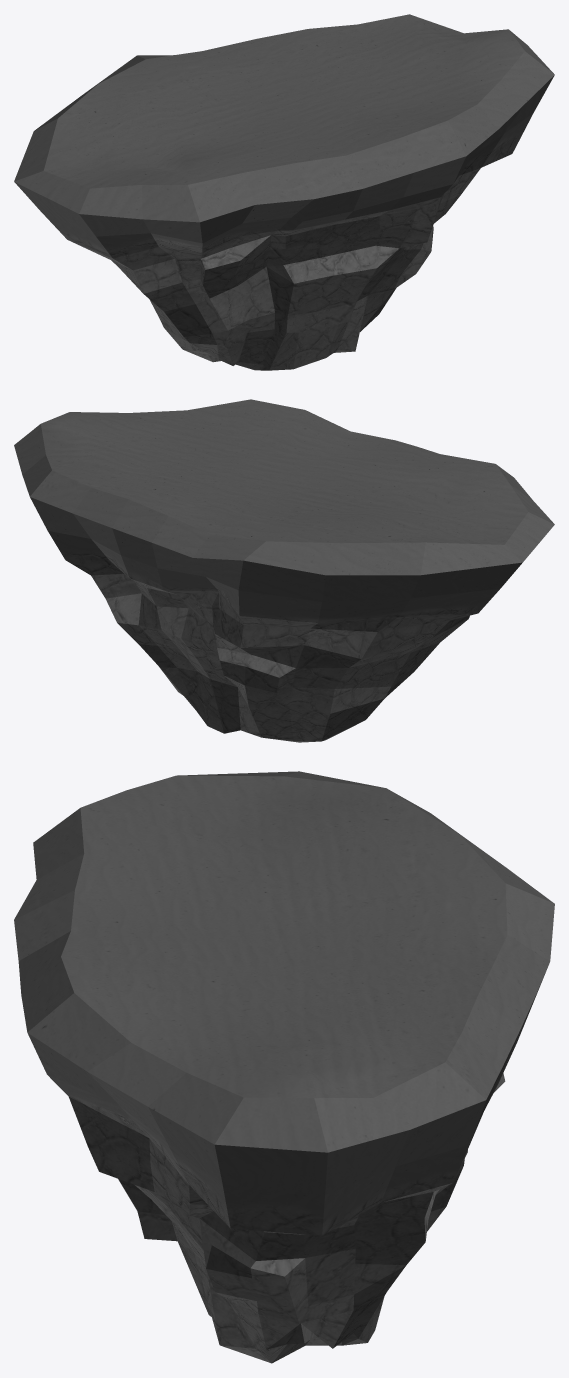
Rendered from m_island_medium_1.fbx.
The picture shows the model from 3 angles, top to bottom: view 1: azimuth 30°, elevation 25°; view 2: azimuth 150°, elevation 25°; view 3: azimuth 270°, elevation 25°; orthographic projection. The views are drawn at different scales.
Parts seen in each view (by area): view 1: Island1; view 2: Island1; view 3: Island1.
Part boxes in pixels (left/top/right/bottom): Island1: left=14, top=14, right=554, bottom=370; Island1: left=14, top=399, right=554, bottom=742; Island1: left=14, top=771, right=554, bottom=1363.
Size of the model in its own units: 32.52 by 15.83 by 19.34.
